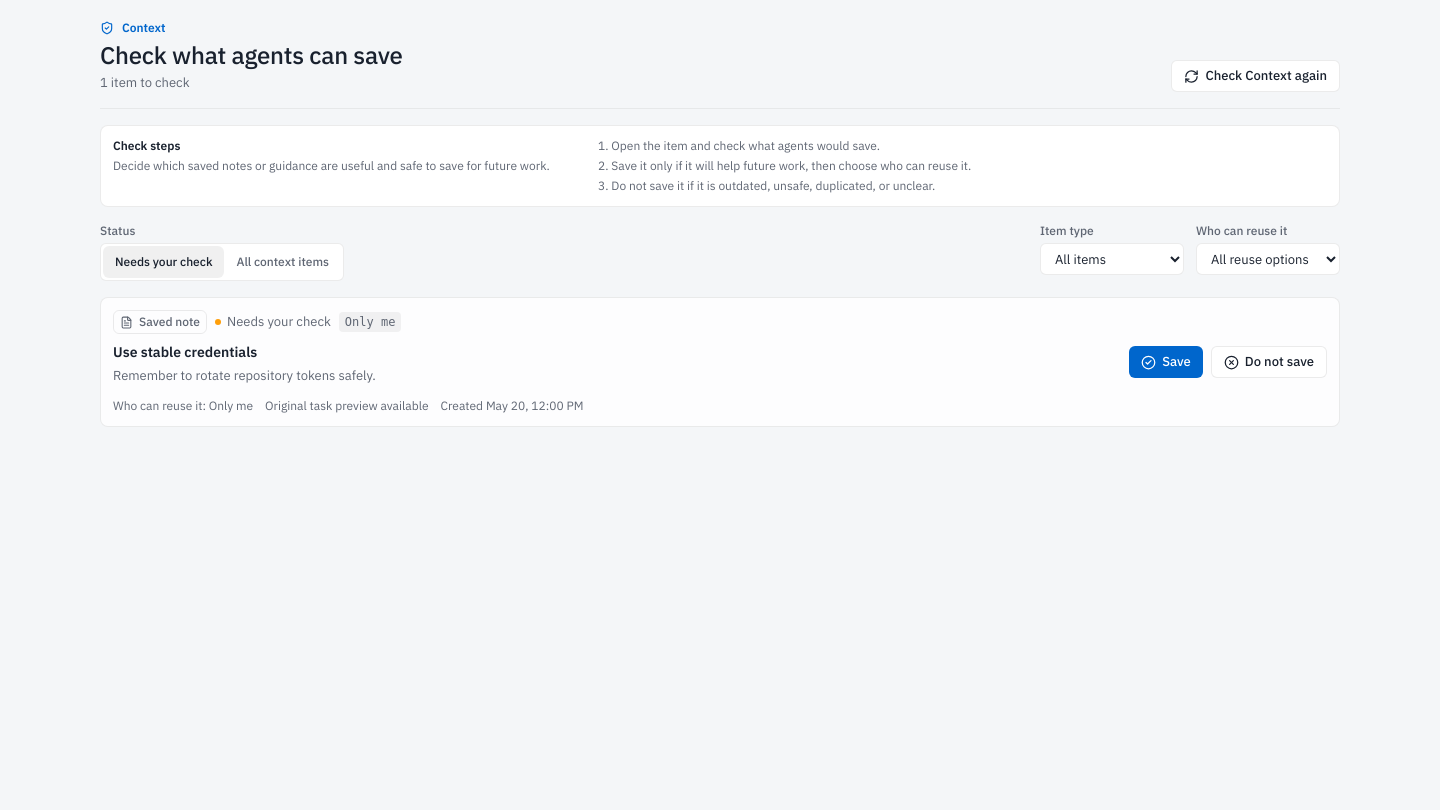
ApprovalQueueView › review later closes the decision panel without saving or rejecting
Expected: the heading "Use stable credentials" is shown, x1=113 y1=343 x2=257 y2=361
Click the button with test id "context-approve-candidate-1".
click(1166, 362)  # box x1=1129 y1=346 x2=1203 y2=378
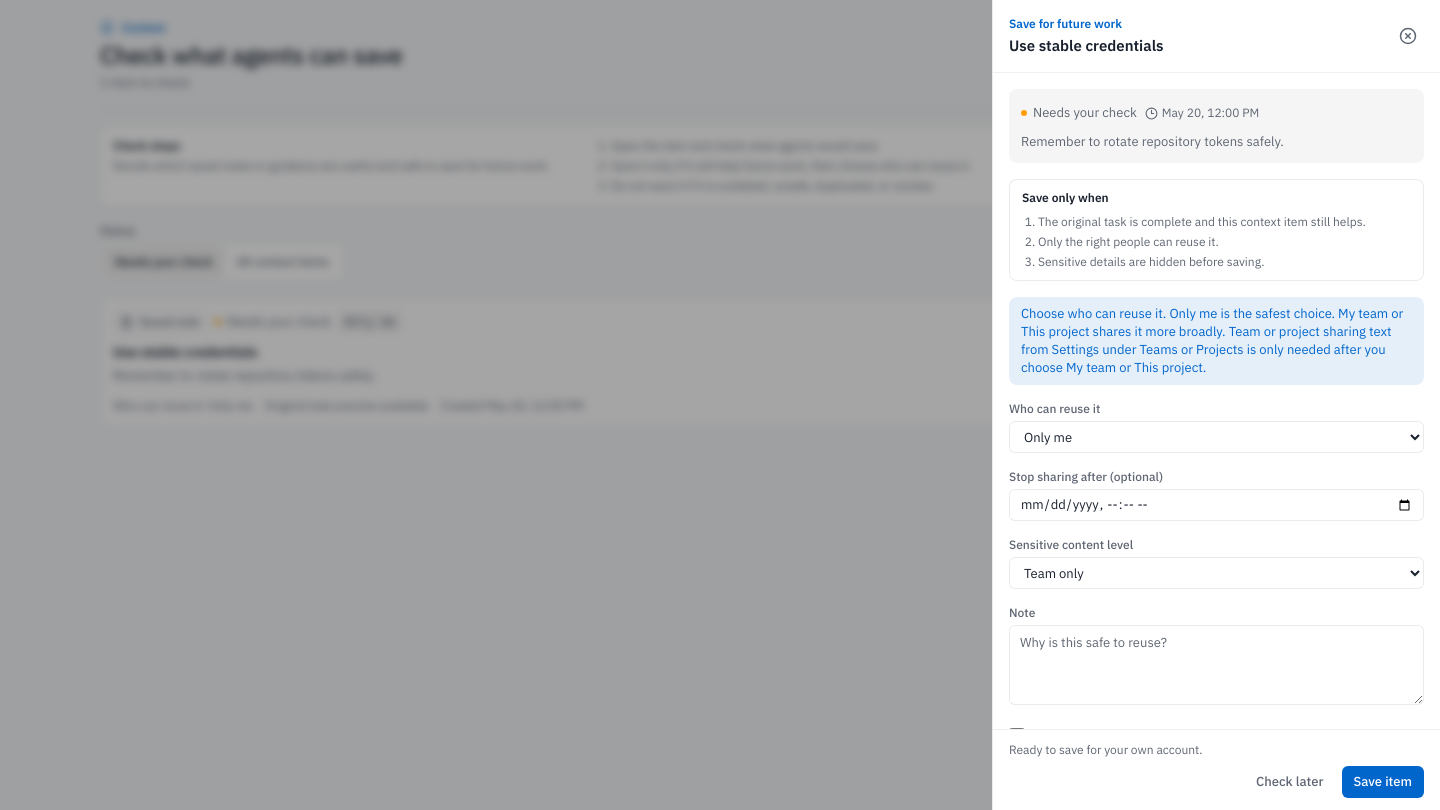
Expected: the element with test id "context-decision-checklist" is shown, x1=1009 y1=179 x2=1424 y2=281
Click the button "Check later".
click(1290, 782)  # box x1=1246 y1=766 x2=1334 y2=798
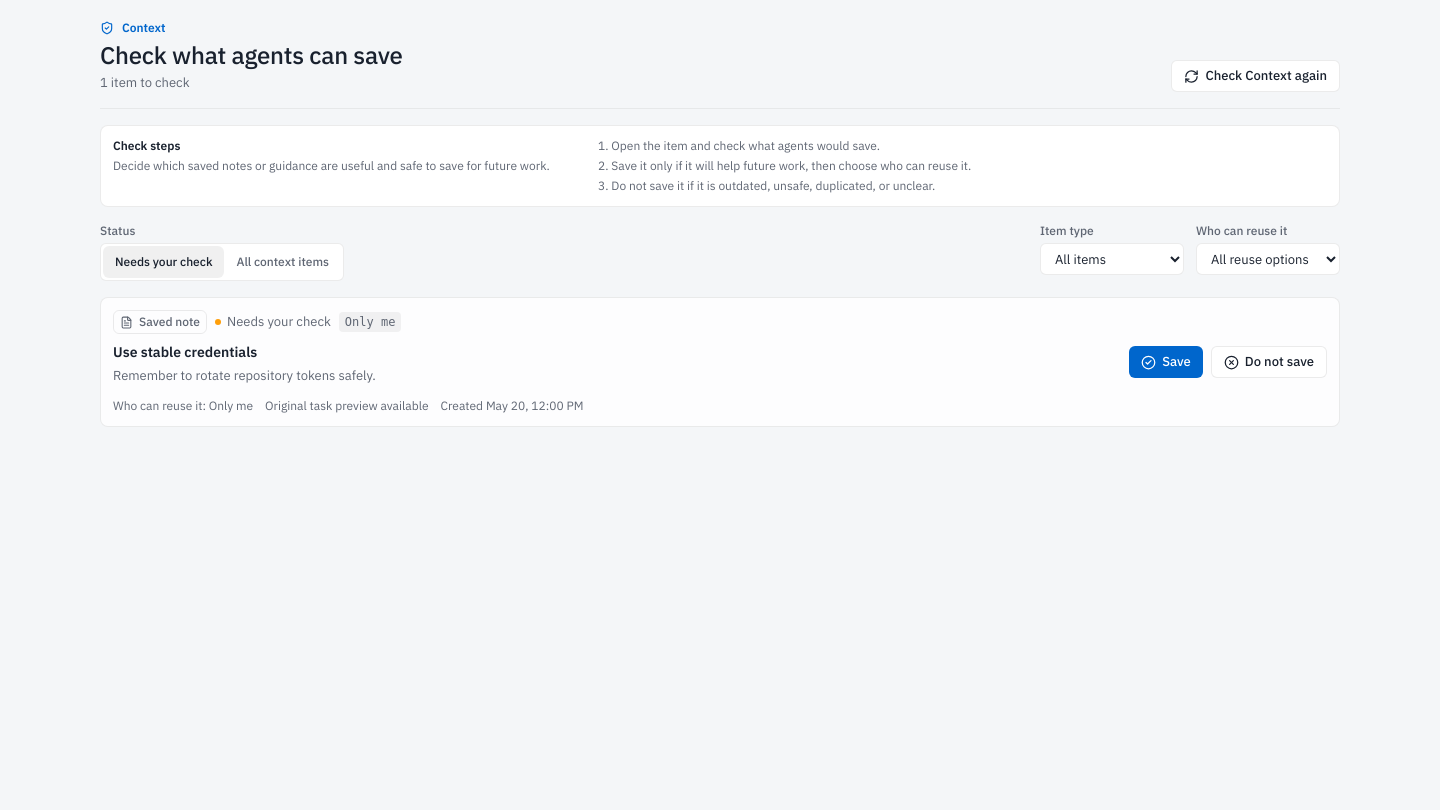
Expected: the heading "Use stable credentials" is shown, x1=113 y1=343 x2=257 y2=361
Expected: the element with test id "context-decision-checklist" is gone
